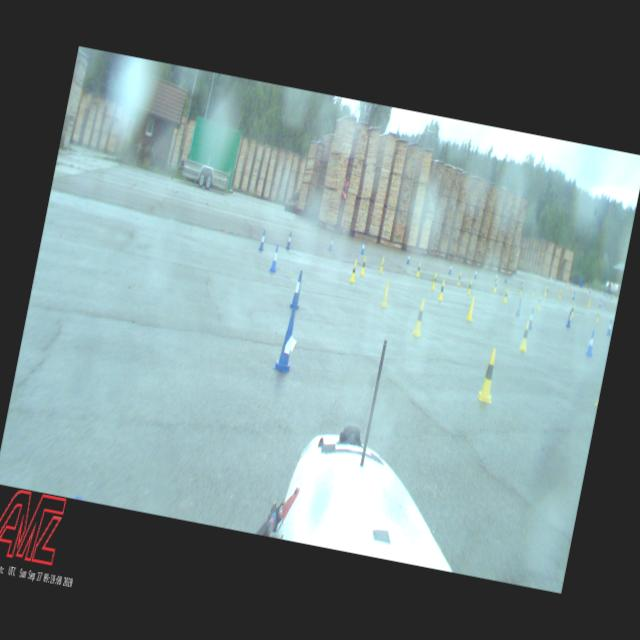blue_cone: (273, 310, 302, 374), (288, 270, 306, 311), (269, 244, 281, 274), (585, 330, 597, 357), (258, 229, 267, 251), (528, 306, 536, 330), (515, 298, 523, 318), (606, 320, 614, 336), (566, 311, 573, 327), (286, 232, 292, 250), (328, 236, 334, 252), (360, 240, 366, 254), (406, 252, 411, 264), (448, 262, 453, 274), (474, 268, 478, 280)
yellow_cone: (476, 348, 502, 403), (411, 300, 428, 336), (518, 321, 532, 352), (380, 278, 392, 308), (466, 295, 476, 321), (349, 260, 359, 282), (438, 280, 447, 300), (360, 256, 368, 276), (430, 272, 438, 290), (379, 258, 385, 274), (502, 288, 508, 303), (416, 262, 422, 277), (492, 279, 498, 293), (457, 272, 462, 286), (467, 280, 472, 294), (571, 304, 575, 318)
